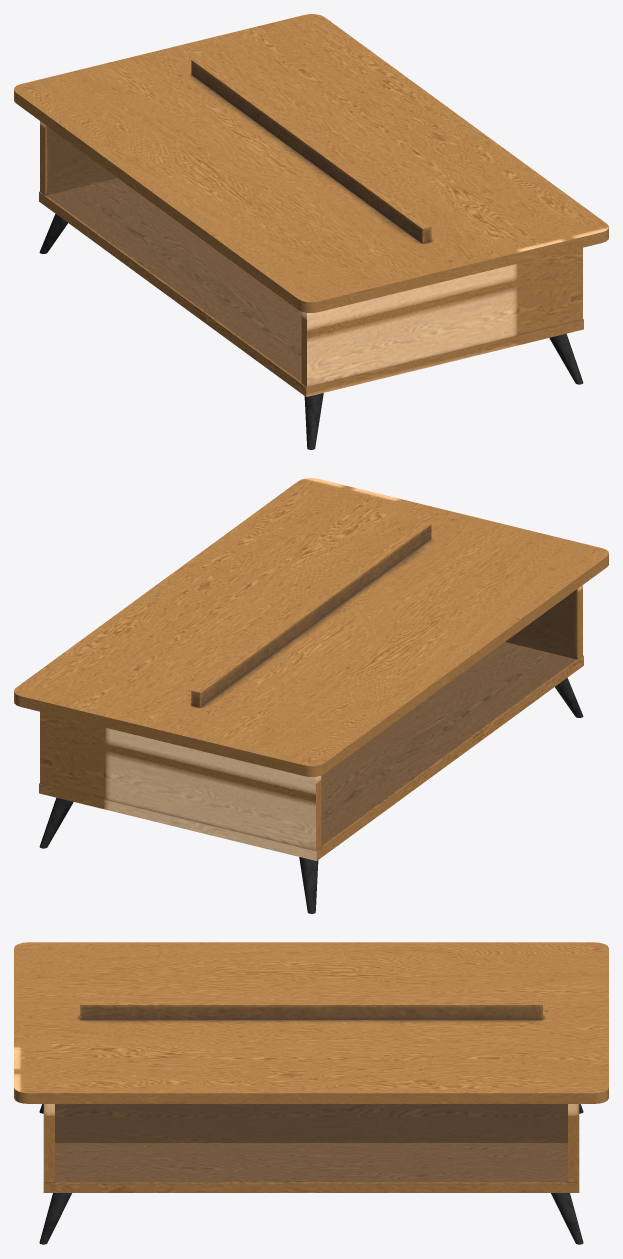
Rendered from SM_Table.fbx.
3 views of the same model, one above another, from view 1: azimuth 30°, elevation 25°; view 2: azimuth 150°, elevation 25°; view 3: azimuth 270°, elevation 25° (orthographic).
Visible parts, largest first — view 1: SM_Table; view 2: SM_Table; view 3: SM_Table.
Boxes of the visible parts, x1,y1,x2,y2 form: SM_Table: (14,14,608,449); SM_Table: (14,478,608,913); SM_Table: (14,942,608,1244).
Bounding box in the file's own units: 84 × 140 × 45.35.
Materials: 1 (1 with a texture image).
